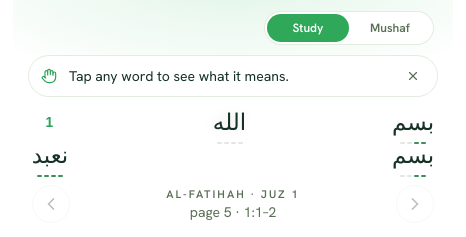
Test: Reader › mode slider shows Study and Mushaf labels and switches display
The width and height of the screenshot is (466, 237).
Expected: the element with test id "mode-slider" is shown, x1=265 y1=12 x2=433 y2=44
Expected: the text "بسم" is shown 2 times, x1=392 y1=109 x2=434 y2=135; x1=392 y1=142 x2=434 y2=168
Click the button "Mushaf".
click(390, 28)  # box x1=349 y1=14 x2=431 y2=42
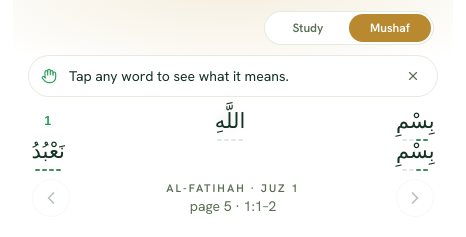
Expected: the text "بِسْمِ" is shown 2 times, x1=396 y1=109 x2=434 y2=132; x1=396 y1=139 x2=434 y2=162
Expected: the button "بسم" is gone
